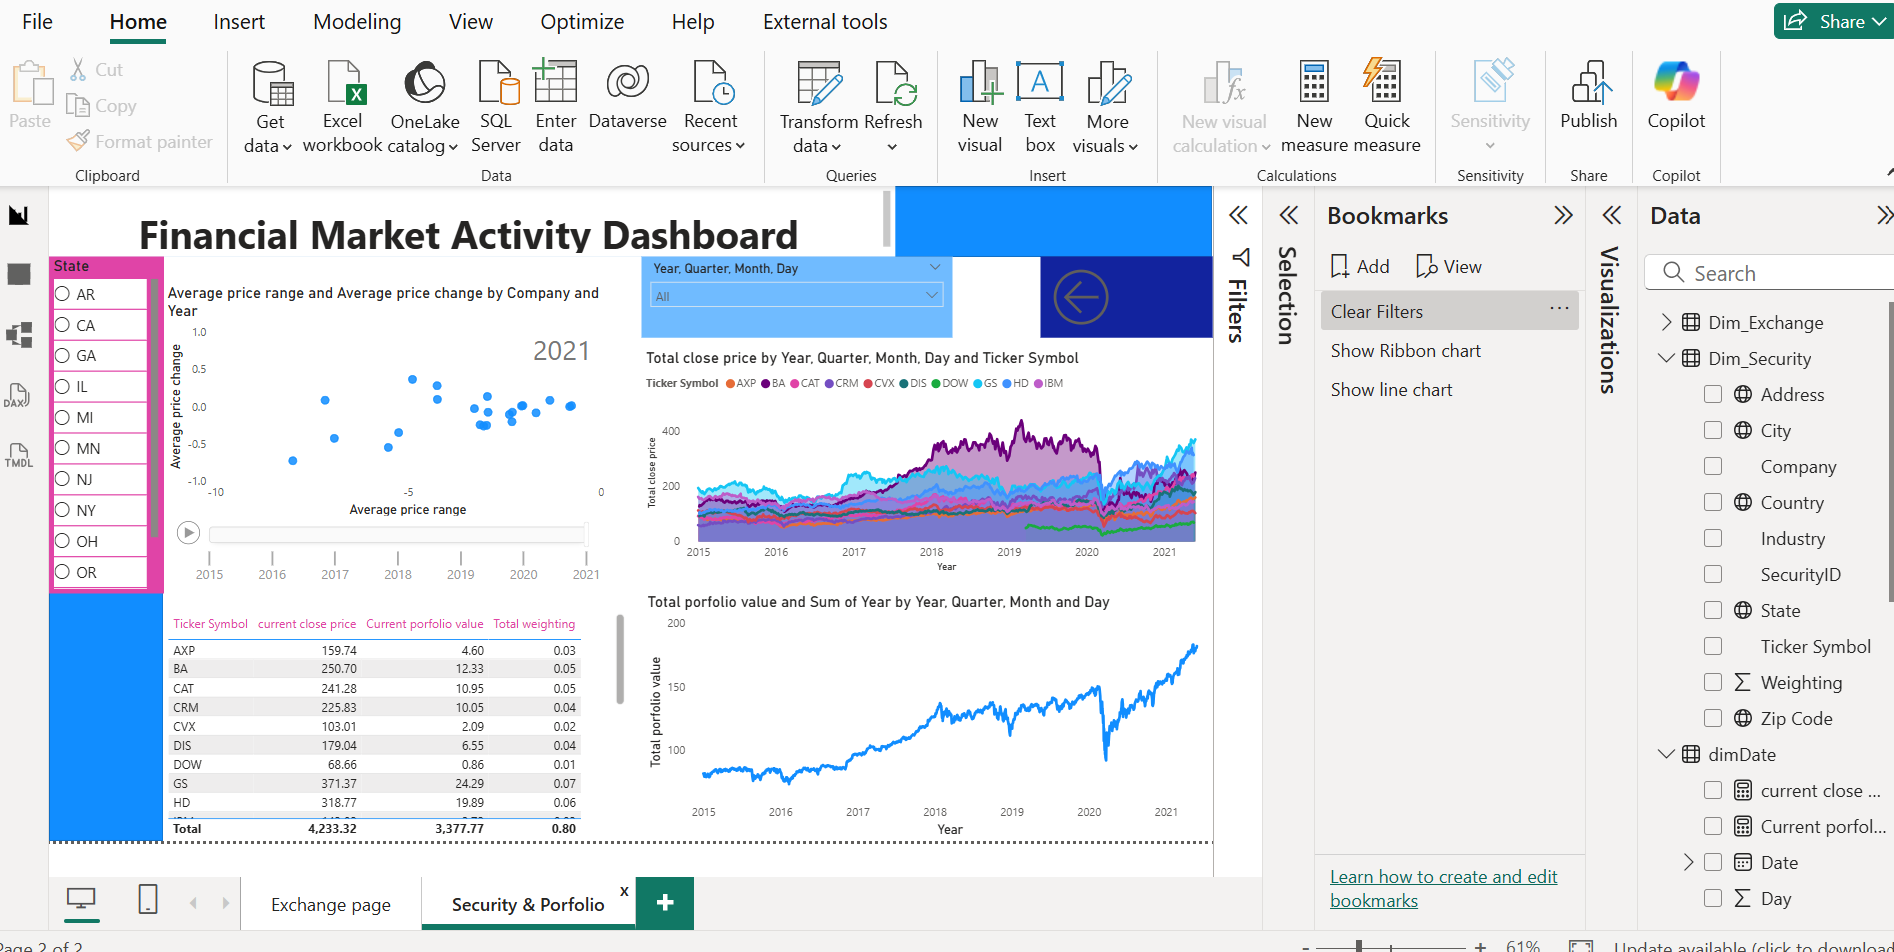

The dashboard page shown, as its layout file describes it:
{"tool":"powerbi","page":{"name":"Security & Porfolio","canvas":[1280,720],"ordinal":1},"visuals":[{"type":"ribbonChart","fields":{"Category":["dimDate.Date.Variation.Date Hierarchy.Year","dimDate.Date.Variation.Date Hierarchy.Quarter","dimDate.Date.Variation.Date Hierarchy.Month","dimDate.Date.Variation.Date Hierarchy.Day"],"Y":["factActivity.Total porfolio value"],"Series":["Dim_Security.Ticker Symbol"]},"box":[652.2,447,626.7,273.6],"z":0},{"type":"shape","box":[0,0,1278.9,77.9],"z":1000},{"type":"shape","box":[0,77.9,125.7,642.6],"z":2000},{"type":"textbox","box":[0,0,930.5,77.9],"z":3000},{"type":"tableEx","fields":{"Values":["Dim_Security.Ticker Symbol","dimDate.current close price","dimDate.Current porfolio value","factActivity.Total weighting"]},"box":[125.7,464.5,512.2,256.1],"z":4000},{"type":"areaChart","fields":{"Y":["factActivity.Total close price"],"Series":["Dim_Security.Ticker Symbol"],"Category":["dimDate.Date.Variation.Date Hierarchy.Year","dimDate.Date.Variation.Date Hierarchy.Quarter","dimDate.Date.Variation.Date Hierarchy.Month","dimDate.Date.Variation.Date Hierarchy.Day"]},"box":[652.2,178.1,626.7,251.3],"z":5000},{"type":"scatterChart","fields":{"Category":["Dim_Security.Company"],"X":["factActivity.Average price range"],"Y":["factActivity.Average price change"],"Play":["dimDate.Year"]},"box":[125.7,106.6,489.9,340.4],"z":6000},{"type":"slicer","fields":{"Values":["dimDate.Date.Variation.Date Hierarchy.Year","dimDate.Date.Variation.Date Hierarchy.Quarter","dimDate.Date.Variation.Date Hierarchy.Month","dimDate.Date.Variation.Date Hierarchy.Day"]},"box":[652.2,77.9,342,89.1],"z":7000},{"type":"actionButton","box":[1089.6,77.9,189.3,89.1],"z":8000},{"type":"ribbonChart","fields":{"Category":["dimDate.Date.Variation.Date Hierarchy.Year","dimDate.Date.Variation.Date Hierarchy.Quarter","dimDate.Date.Variation.Date Hierarchy.Month","dimDate.Date.Variation.Date Hierarchy.Day"],"Y":["factActivity.Total porfolio value"],"Series":["Dim_Security.Ticker Symbol"]},"box":[652.2,446.4,626.7,273.6],"z":9000},{"type":"listSlicer","fields":{"Values":["Dim_Security.State"]},"box":[0,77.2,126,369.8],"z":9002}]}

Visuals, with their boxes on the page's 1280x720 design canvas (x1, y1, x2, y2). These are canvas units, not pixel positions in the 1894x952 screenshot, which may show the page scaled, cropped or inside an application window:
ribbonChart - dimDate.Date.Variation.Date Hierarchy.Year x dimDate.Date.Variation.Date Hierarchy.Quarter: l=652, t=447, r=1279, b=721
shape: l=0, t=0, r=1279, b=78
shape: l=0, t=78, r=126, b=720
textbox: l=0, t=0, r=930, b=78
tableEx - Dim_Security.Ticker Symbol x dimDate.current close price: l=126, t=464, r=638, b=721
areaChart - factActivity.Total close price x Dim_Security.Ticker Symbol: l=652, t=178, r=1279, b=429
scatterChart - Dim_Security.Company x factActivity.Average price range: l=126, t=107, r=616, b=447
slicer - dimDate.Date.Variation.Date Hierarchy.Year x dimDate.Date.Variation.Date Hierarchy.Quarter: l=652, t=78, r=994, b=167
actionButton: l=1090, t=78, r=1279, b=167
ribbonChart - dimDate.Date.Variation.Date Hierarchy.Year x dimDate.Date.Variation.Date Hierarchy.Quarter: l=652, t=446, r=1279, b=720
listSlicer - Dim_Security.State: l=0, t=77, r=126, b=447
